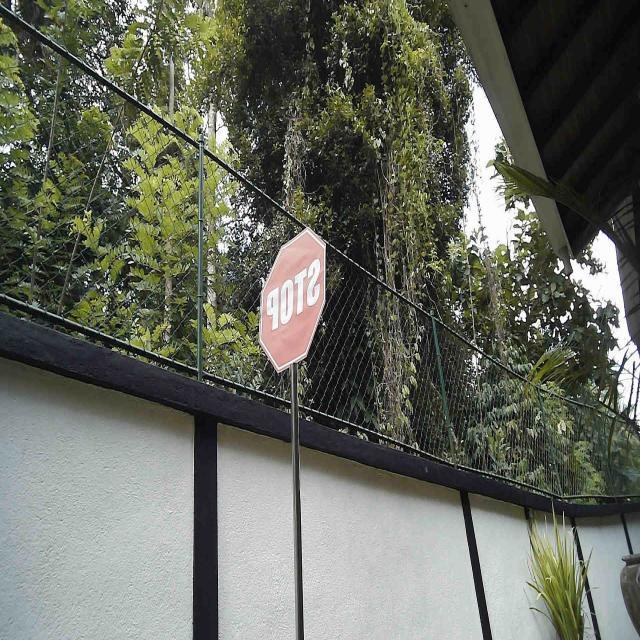stop: (257, 223, 327, 376)
